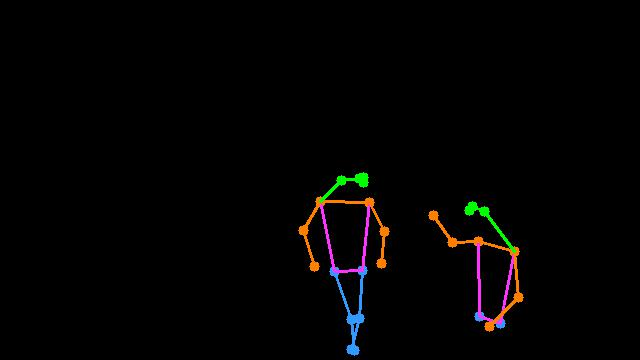normal: (296, 150, 529, 360)
